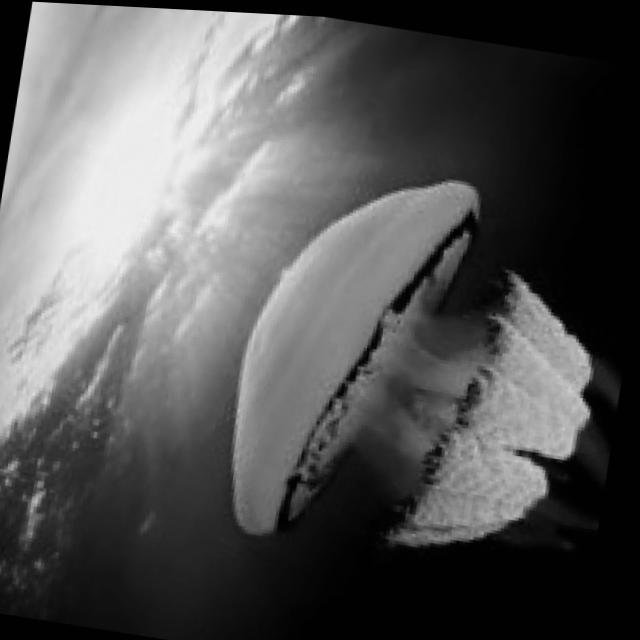Box-jellyfish: (212, 142, 635, 583)
